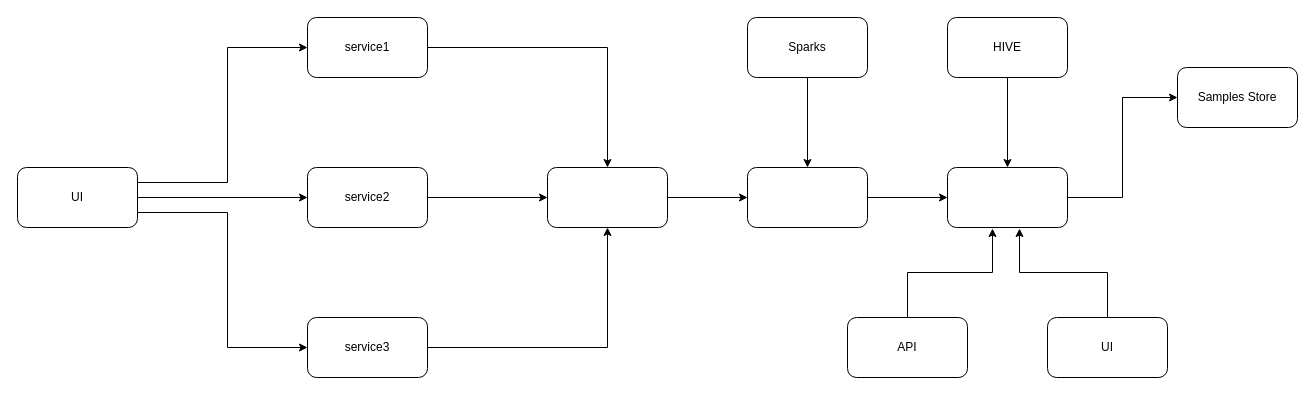
This 1315x395 diagram has some shape labels left out. Each missing label, with the centre of its shape:
"Feature Store" goes at point (1007, 197).
"HDFS" goes at point (807, 197).
"Kafka" goes at point (607, 197).
